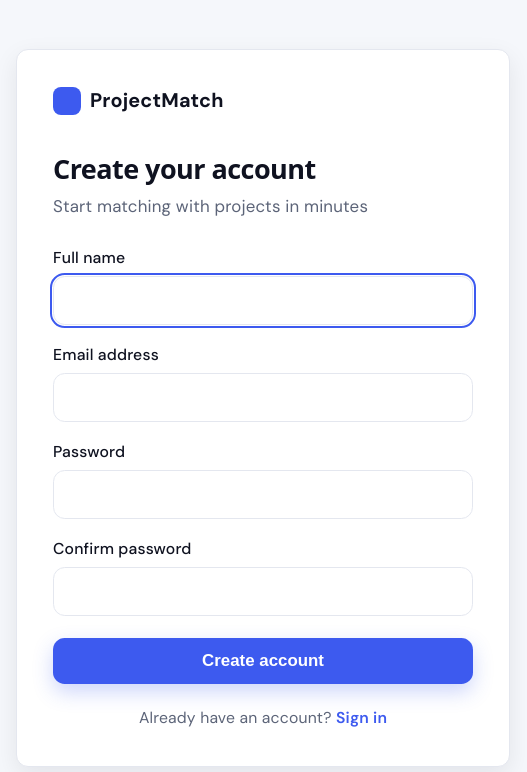
Test: SignupPage — client-side validation › shows error when password is shorter than 6 characters
Type "Test User" into the field labelled "Full name" at coordinates (263, 301), box [53,276,473,325]
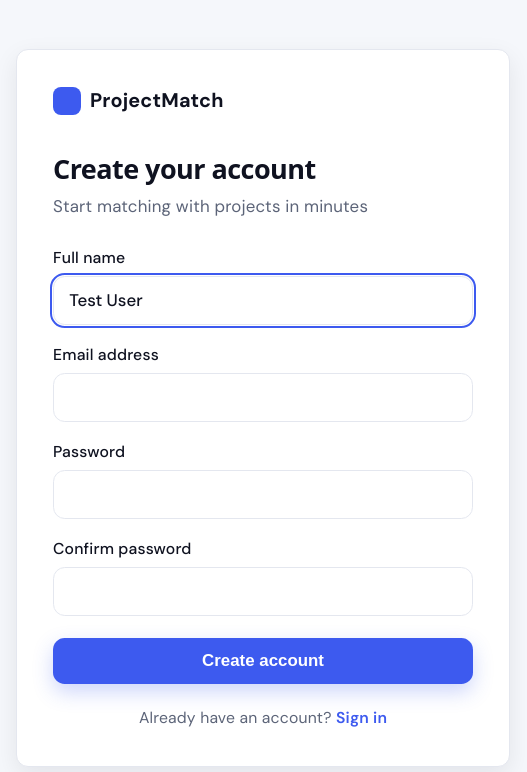
Type "test@example.com" into the field labelled "Email address" at coordinates (263, 398), box [53,373,473,422]
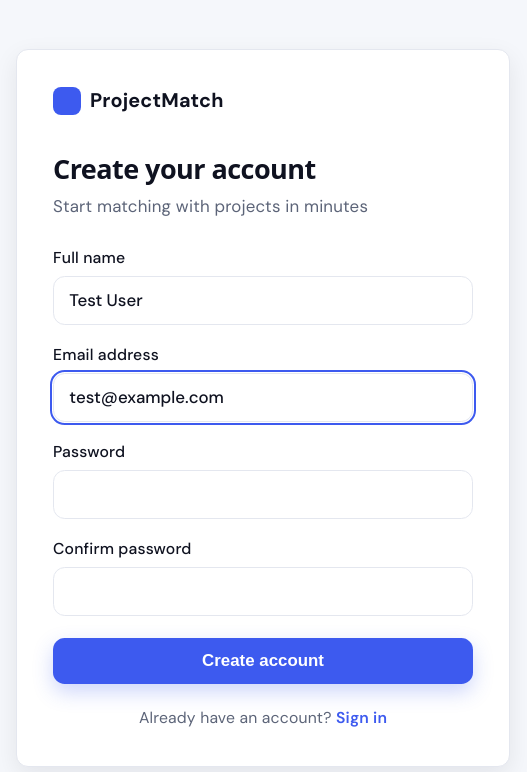
Type "123" into the password field labelled "Password" at coordinates (263, 494), box [53,470,473,519]
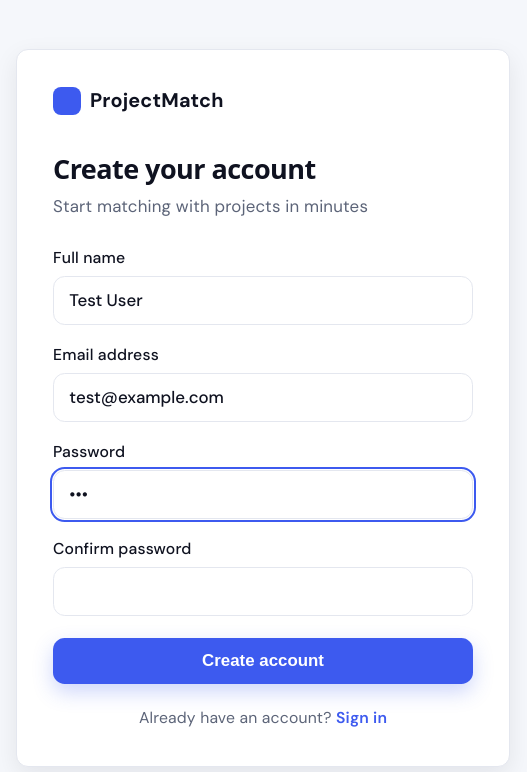
Type "123" into the password field labelled "Confirm password" at coordinates (263, 591), box [53,567,473,616]
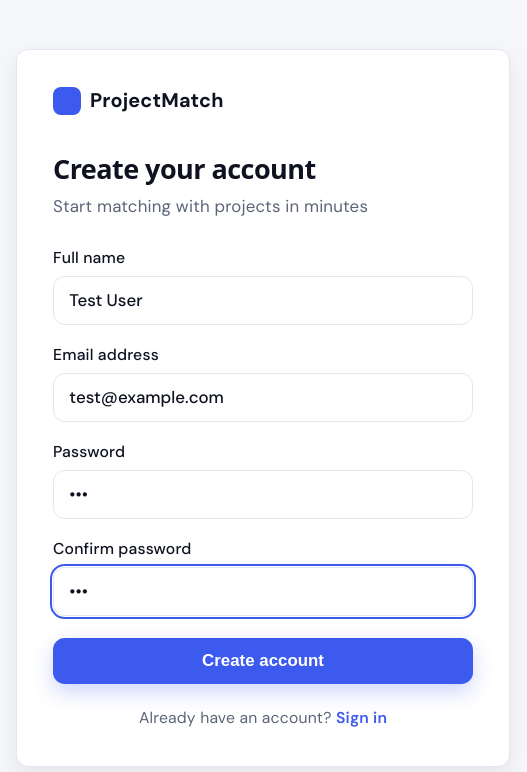
Click the button "Create account" at coordinates (263, 661), box [53,638,473,684]
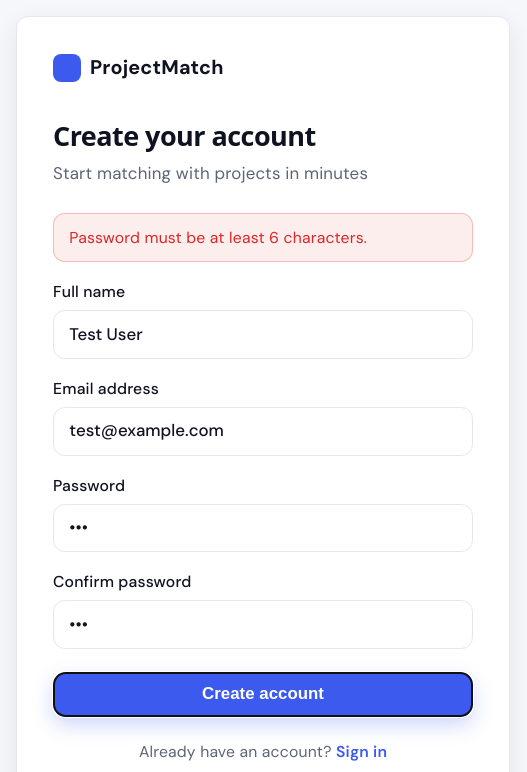
Check: the message shows "at least 6", box [69,227,367,248]
